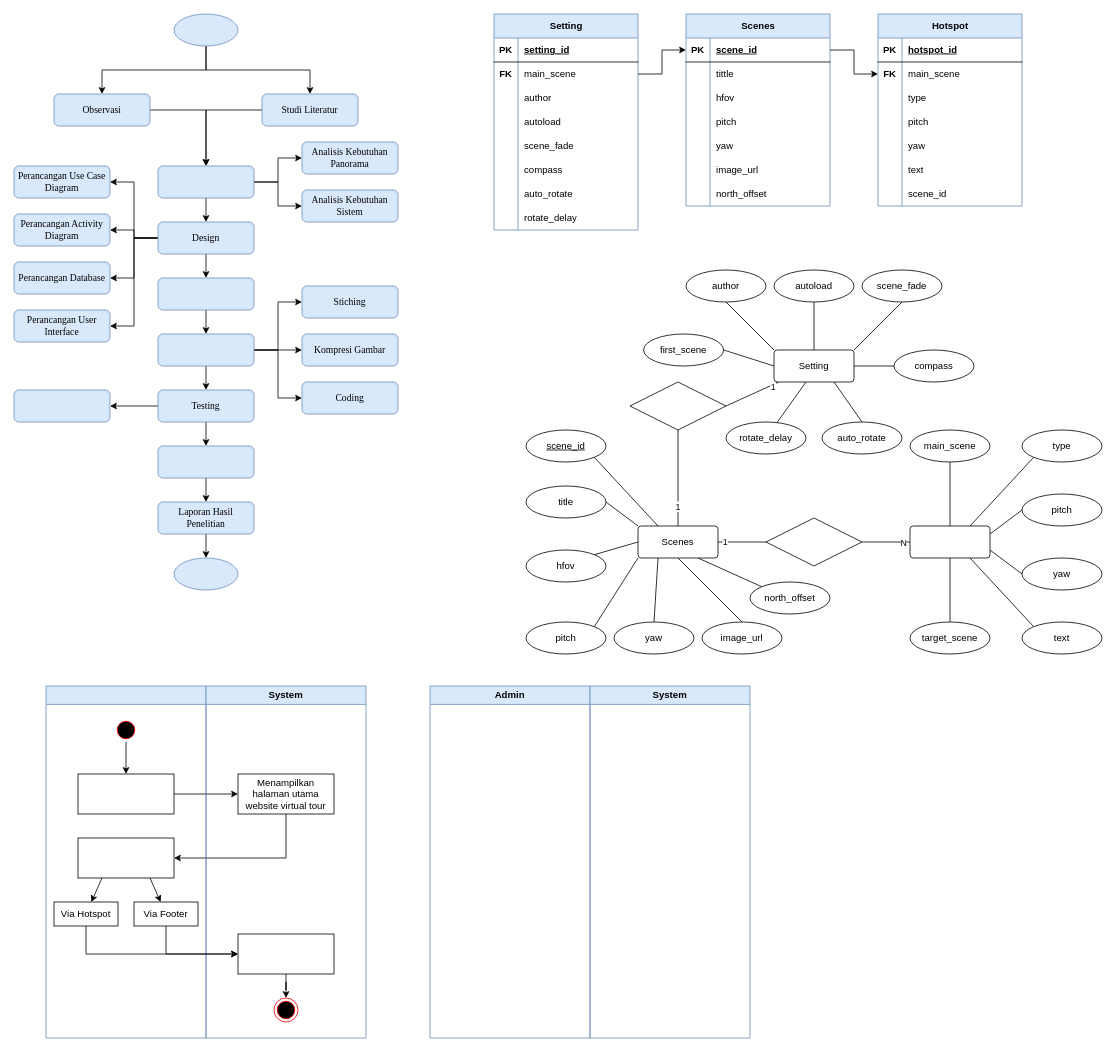
The diagram is 1116 pixels wide and 1052 high, and some of its shapes have lost their labels. The shapes that lost their labels are listed below. From the top down, each one's box as (x1, y1, x2, y2) in pixels, then its label:
(173, 13, 238, 46): Mulai
(157, 165, 254, 198): Concept
(157, 277, 254, 310): Material Collecting
(157, 333, 254, 366): Assembly
(13, 389, 110, 422): Blackbox Testing
(629, 381, 726, 430): Mengendalikan
(157, 445, 254, 478): Distribution
(765, 517, 862, 566): Memiliki
(909, 525, 990, 558): Hotspots
(173, 557, 238, 590): Selesai
(77, 773, 174, 814): Membuka website
(77, 837, 174, 878): Memilih lokasi
(45, 685, 206, 1038): User
(237, 933, 334, 974): Menampilkan lokasi pilihan
